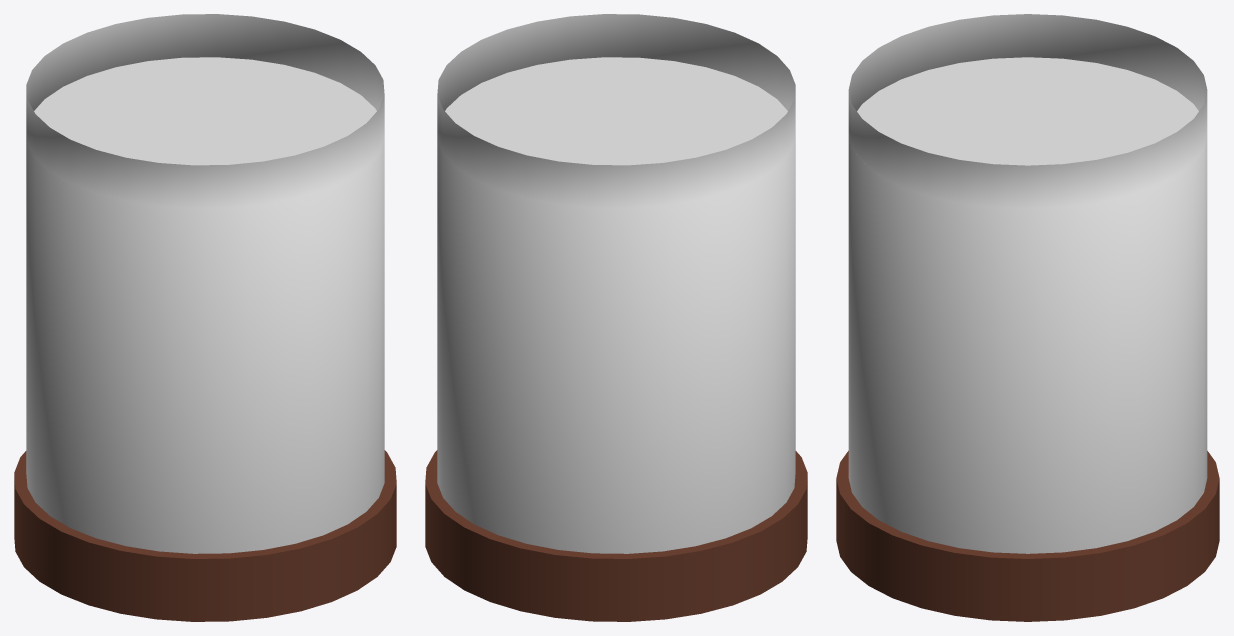
File: brain.fbx
3 renders of one model, left to right at view 1: azimuth 30°, elevation 25°; view 2: azimuth 150°, elevation 25°; view 3: azimuth 270°, elevation 25°, orthographic.
Parts seen in each view (by area): view 1: Jar, Jar.001; view 2: Jar, Jar.001; view 3: Jar, Jar.001.
Part boxes in pixels (bbox=[...]): Jar: bbox=[14, 14, 396, 621]; Jar.001: bbox=[34, 57, 376, 165]; Jar: bbox=[425, 14, 807, 621]; Jar.001: bbox=[445, 57, 787, 165]; Jar: bbox=[836, 14, 1219, 621]; Jar.001: bbox=[857, 57, 1198, 165].
Bounding box in the file's own units: 25.52 × 33.15 × 25.52.
